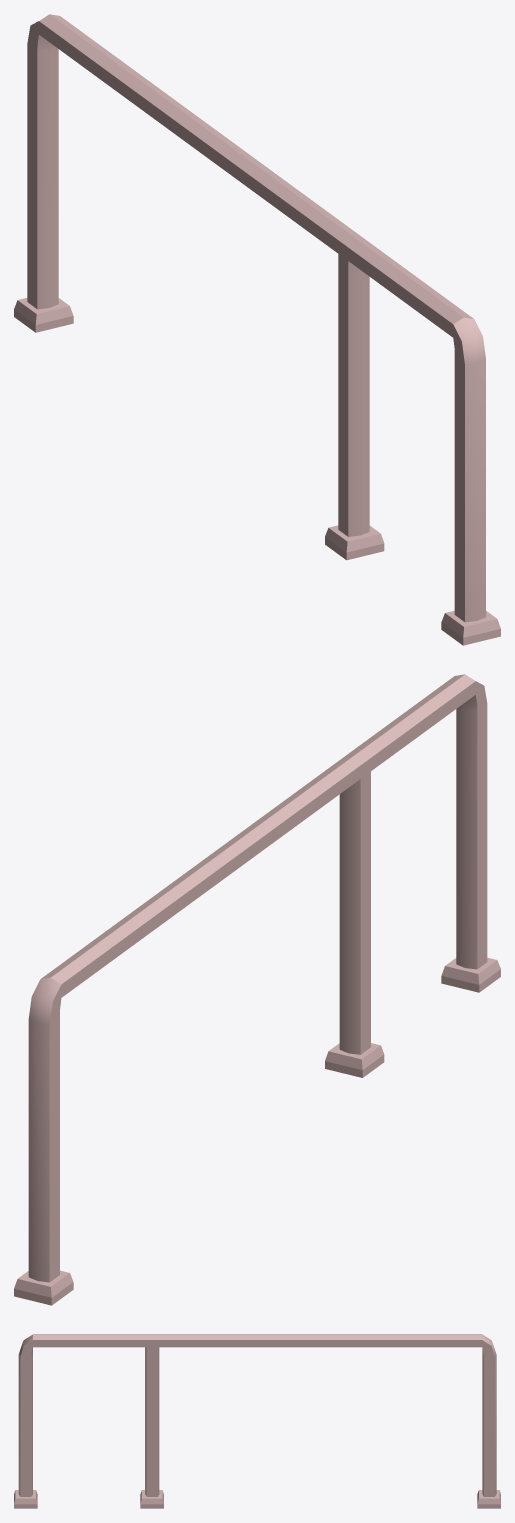
File: Module_Ss_asset_bar4.FBX
3 views of the same model, one above another, from view 1: azimuth 30°, elevation 25°; view 2: azimuth 150°, elevation 25°; view 3: azimuth 270°, elevation 25° (orthographic). The views are drawn at different scales.
Visible parts, largest first — view 1: Module_Ss_asset_bar4; view 2: Module_Ss_asset_bar4; view 3: Module_Ss_asset_bar4.
Boxes of the visible parts, x1=… form: Module_Ss_asset_bar4: x1=14, y1=14, x2=500, y2=645; Module_Ss_asset_bar4: x1=14, y1=674, x2=500, y2=1305; Module_Ss_asset_bar4: x1=14, y1=1334, x2=500, y2=1508.
Size of the model in its own units: 2.75 by 21.61 by 56.6.
